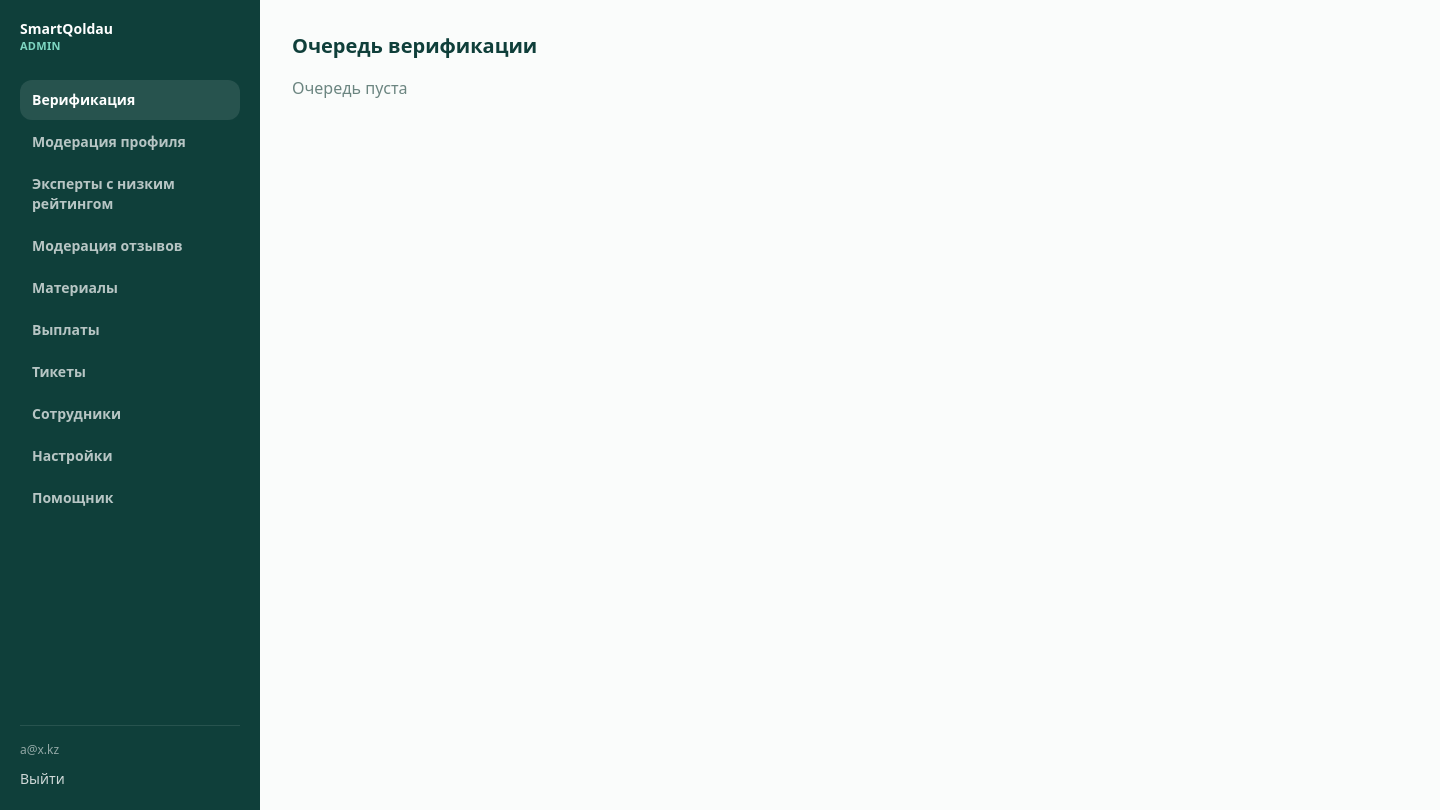
logout updates routing without a page reload
Click the button "Выйти" at (42, 779), box [20,769,65,789]
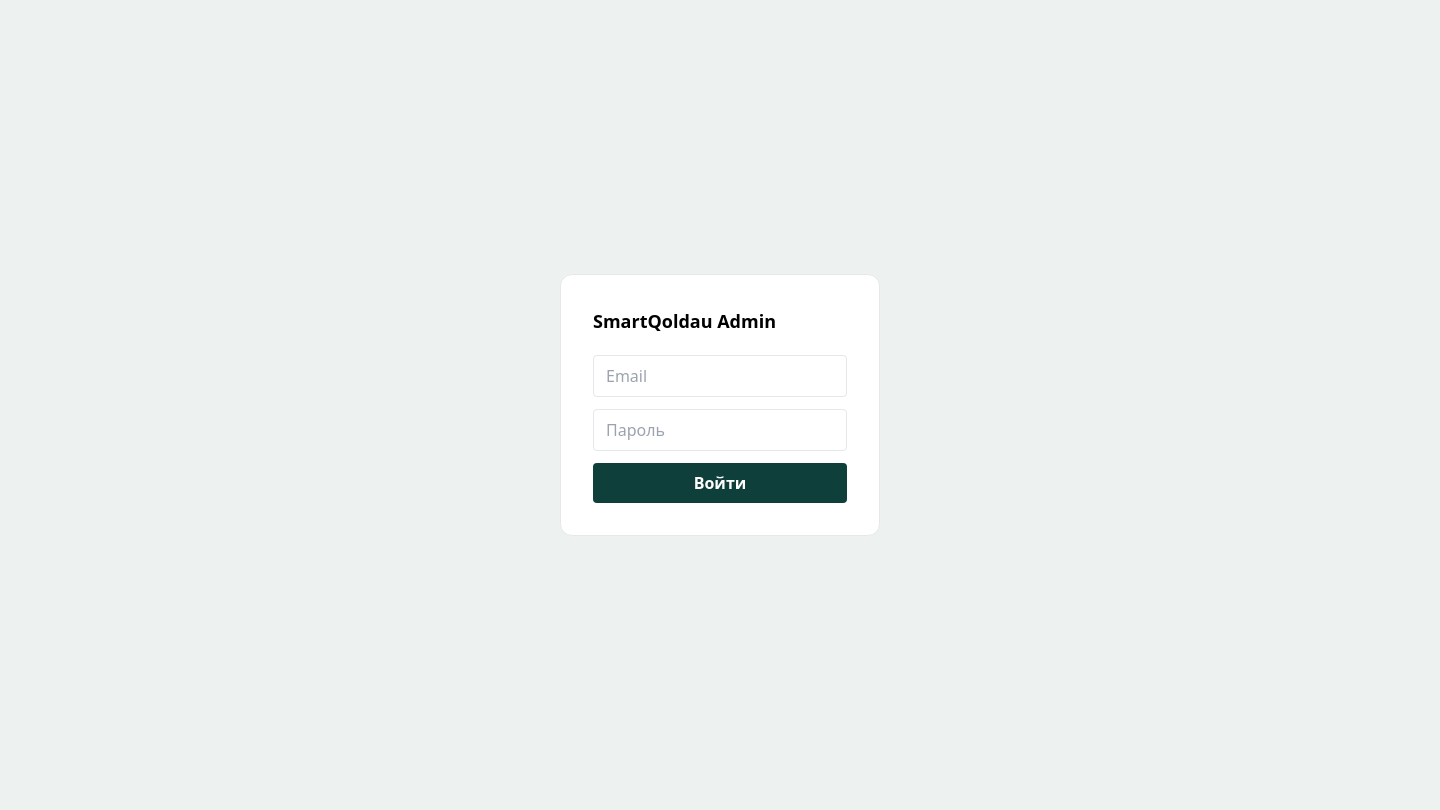
Check: the button "Войти" is shown, box [593,463,847,503]
